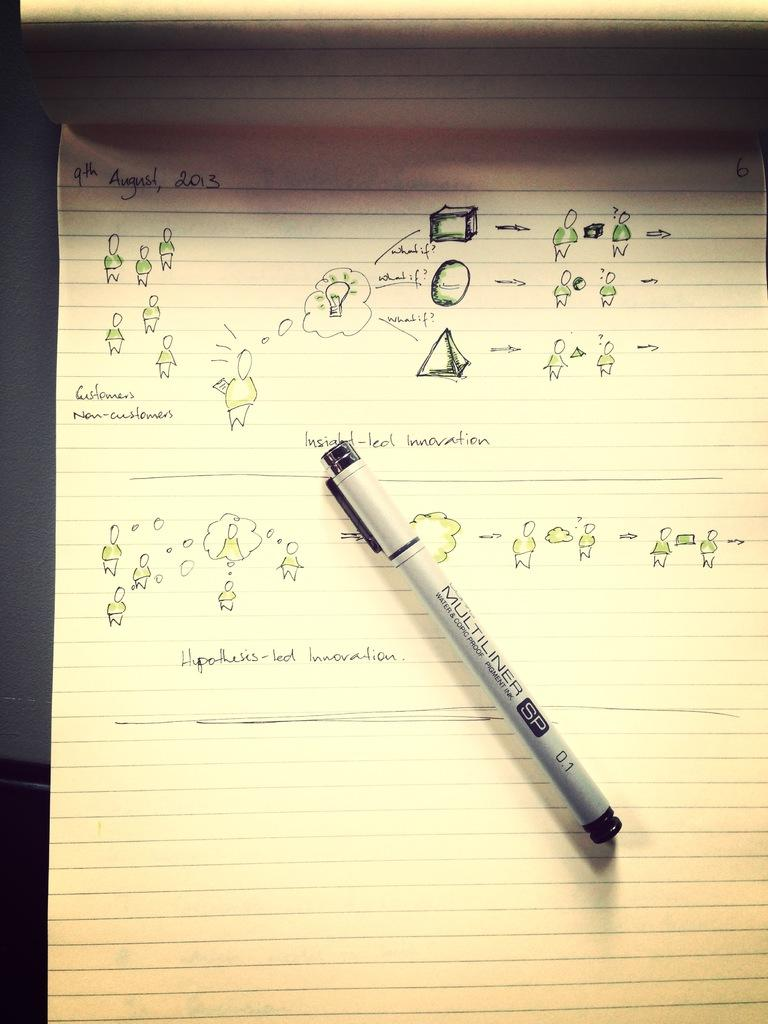pen: (319, 431, 625, 840)
